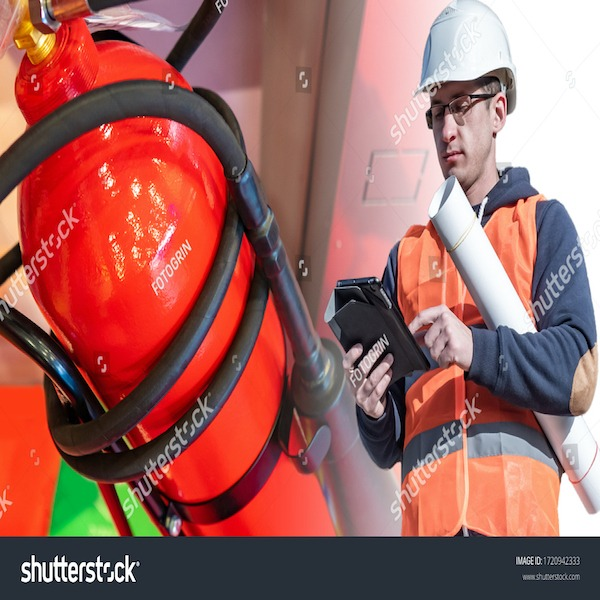helmet: (415, 6, 517, 91)
vest: (395, 190, 568, 537)
